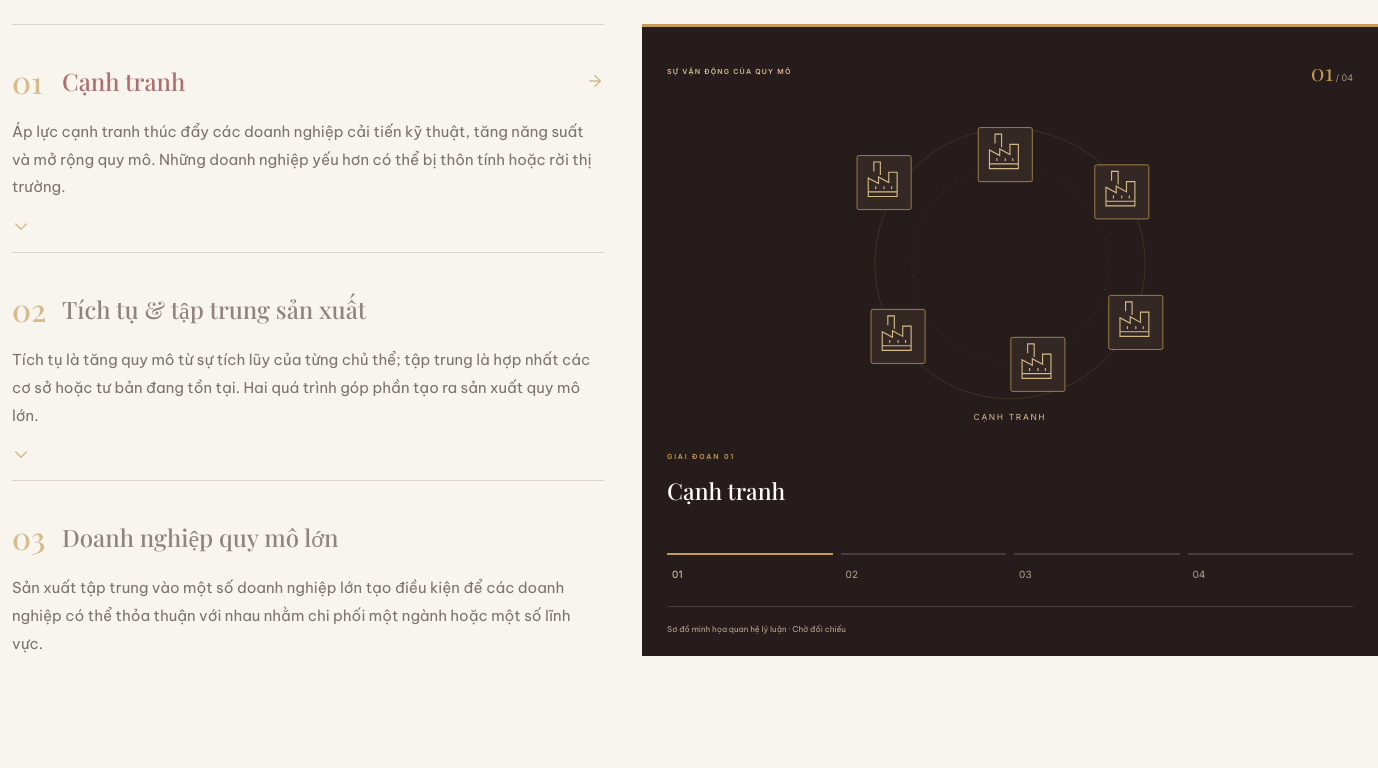
Test: Editorial learning interactions › does not scroll the page or the pane when selecting a mobile stage
The image size is (1378, 768).
Click the button "02 Tích tụ & tập trung sản xuất" at (308, 310), box left=12, top=287, right=604, bottom=332
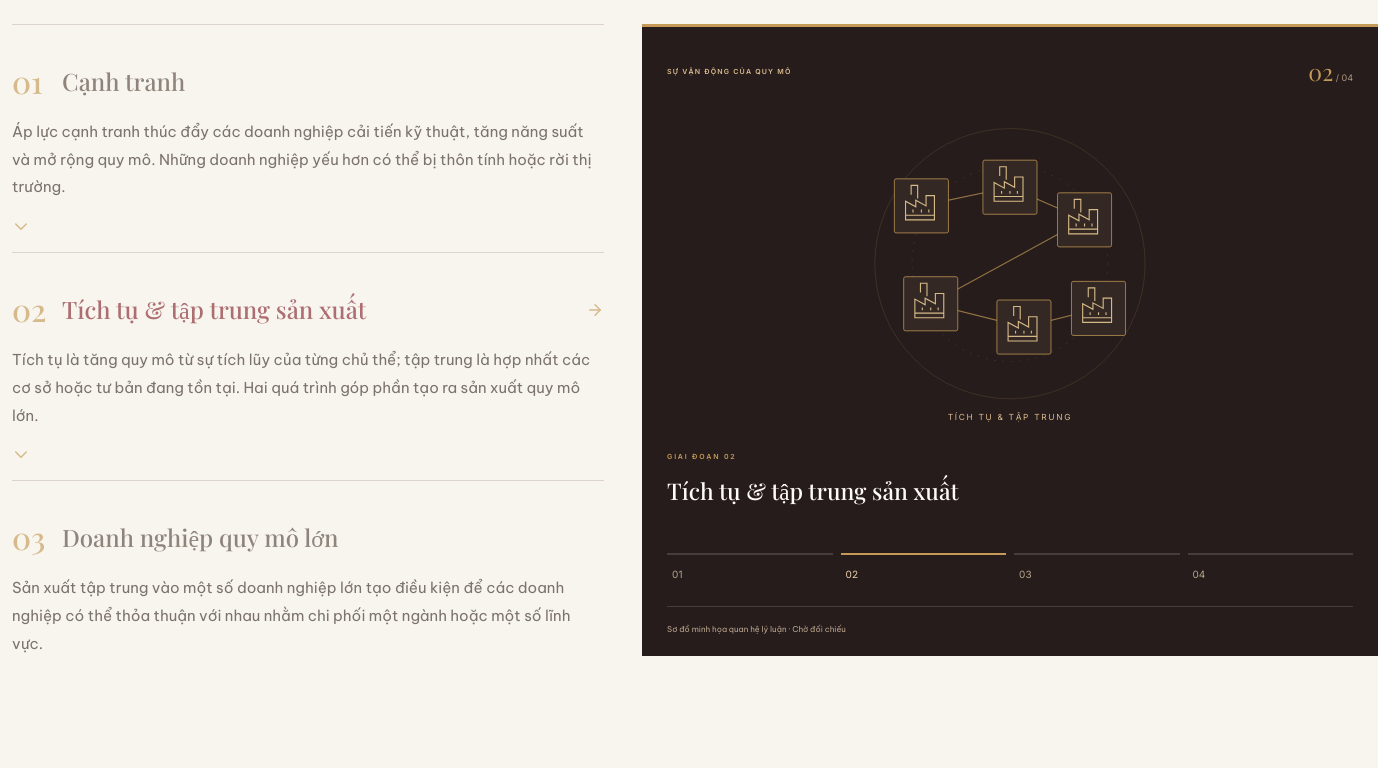
Check: the heading "Tích tụ & tập trung sản xuất" is shown, box left=667, top=475, right=959, bottom=506
